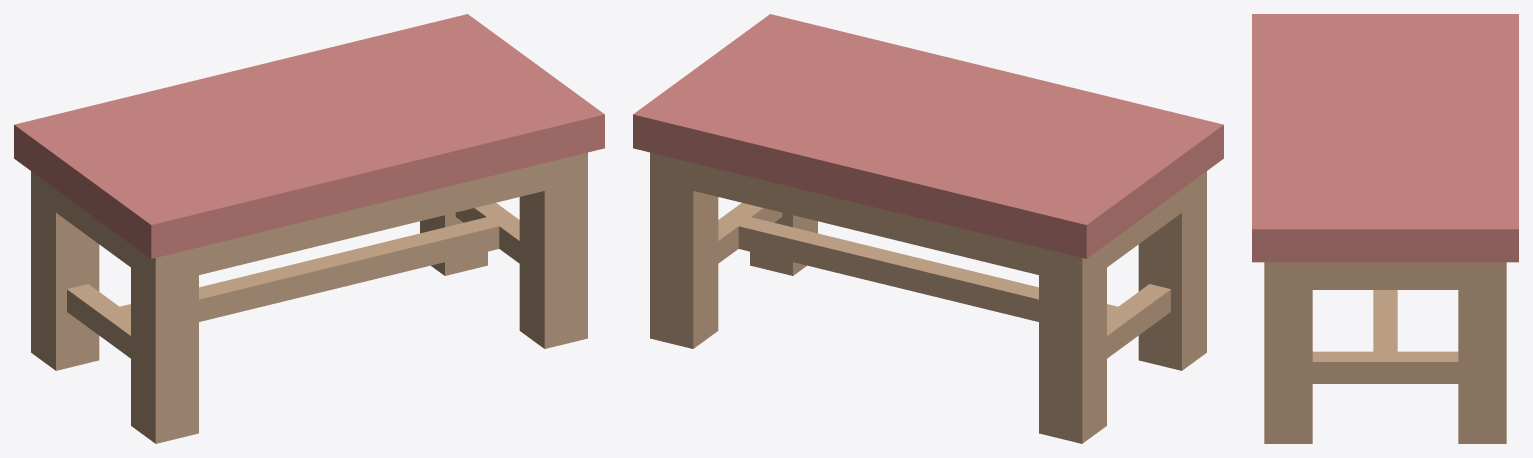
File: benchCushionLow.glb
3 views of the same model, side by side, from view 1: azimuth 30°, elevation 25°; view 2: azimuth 150°, elevation 25°; view 3: azimuth 270°, elevation 25° (orthographic). The views are drawn at different scales.
Visible parts, largest first — view 1: benchCushionLow; view 2: benchCushionLow; view 3: benchCushionLow.
Part boxes in pixels (x1,y1,x2,y2): benchCushionLow: (14, 14, 604, 443); benchCushionLow: (633, 14, 1223, 443); benchCushionLow: (1252, 14, 1518, 443).
Bounding box in the file's own units: 0.42 × 0.2 × 0.22.
